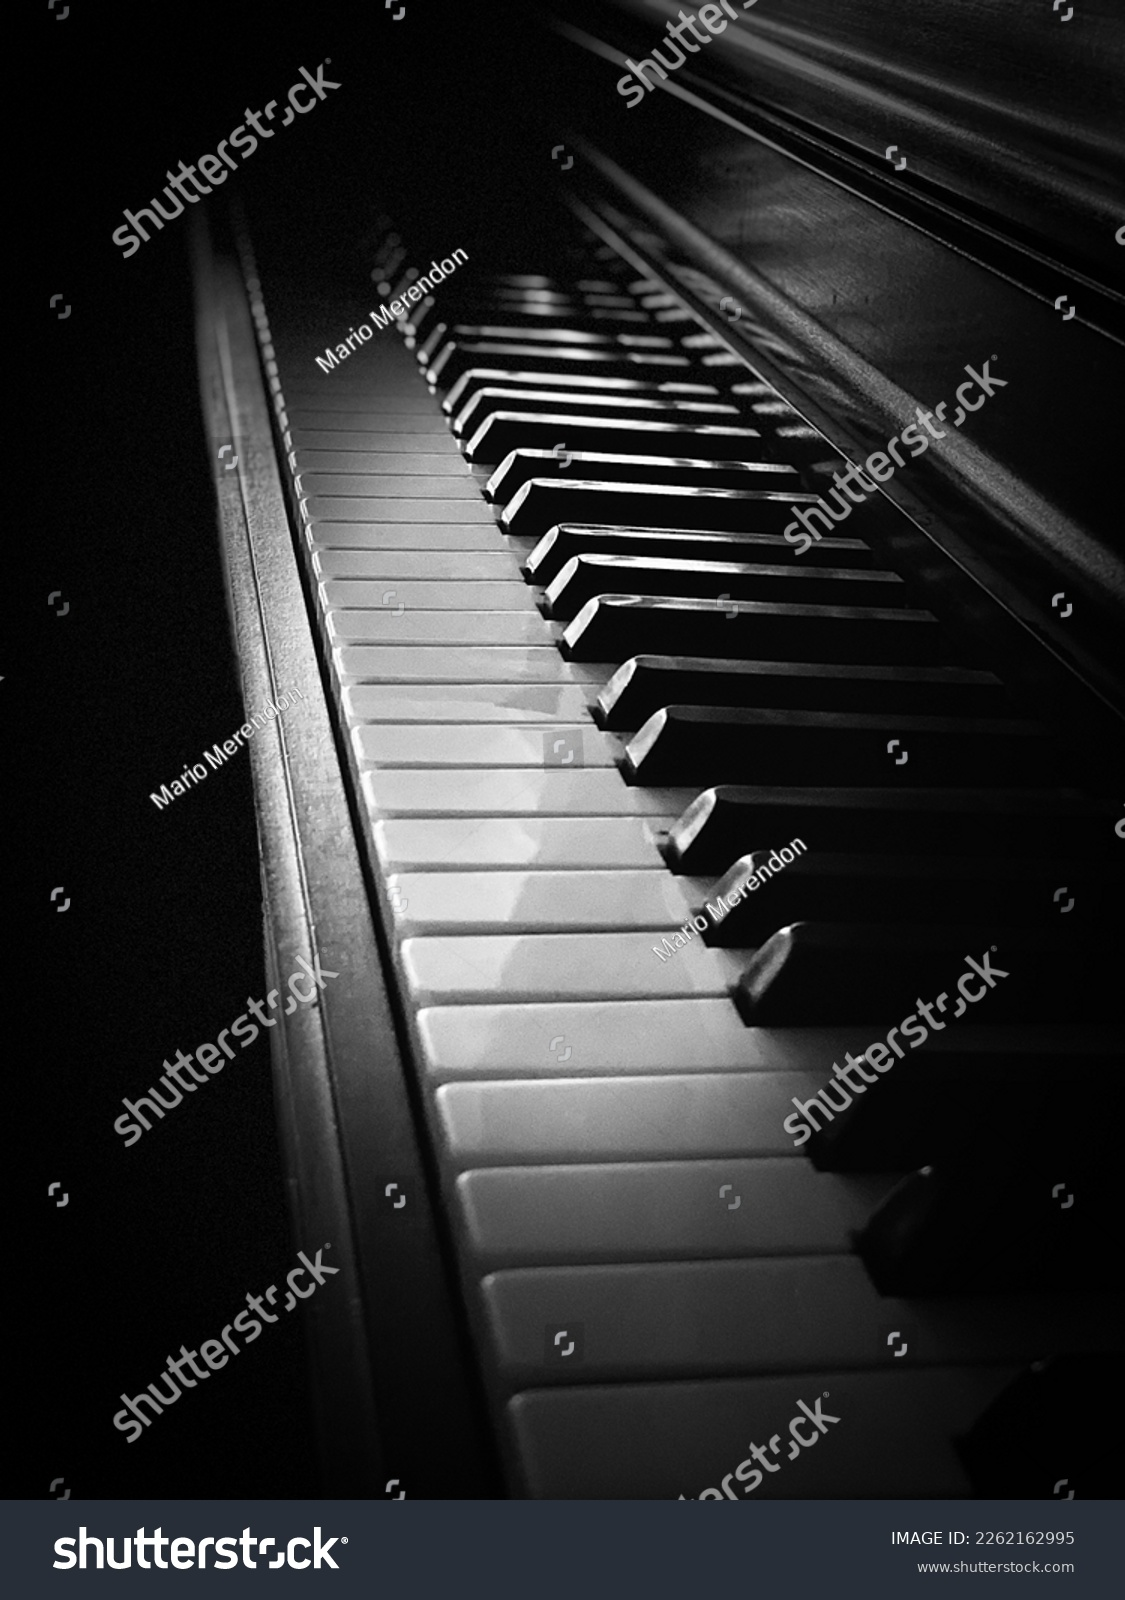Piano: (123, 65, 1125, 1535)
